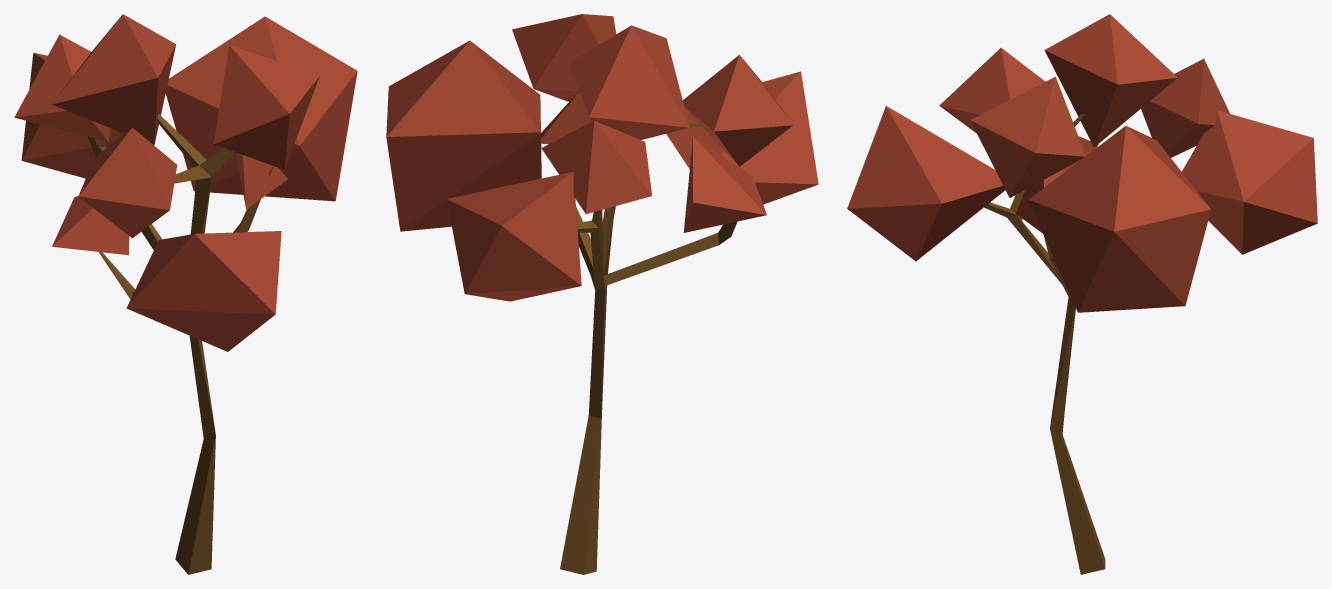
The model's file is tree5.fbx.
3 views of the same model, side by side, from view 1: azimuth 30°, elevation 25°; view 2: azimuth 150°, elevation 25°; view 3: azimuth 270°, elevation 25° (orthographic). The views are drawn at different scales.
Visible parts, largest first — view 1: tree; view 2: tree; view 3: tree.
Part boxes in pixels (<box>): tree: <box>14,14,357,574</box>; tree: <box>386,14,818,574</box>; tree: <box>847,14,1317,574</box>.
Bounding box in the file's own units: 405 × 640 × 518.
